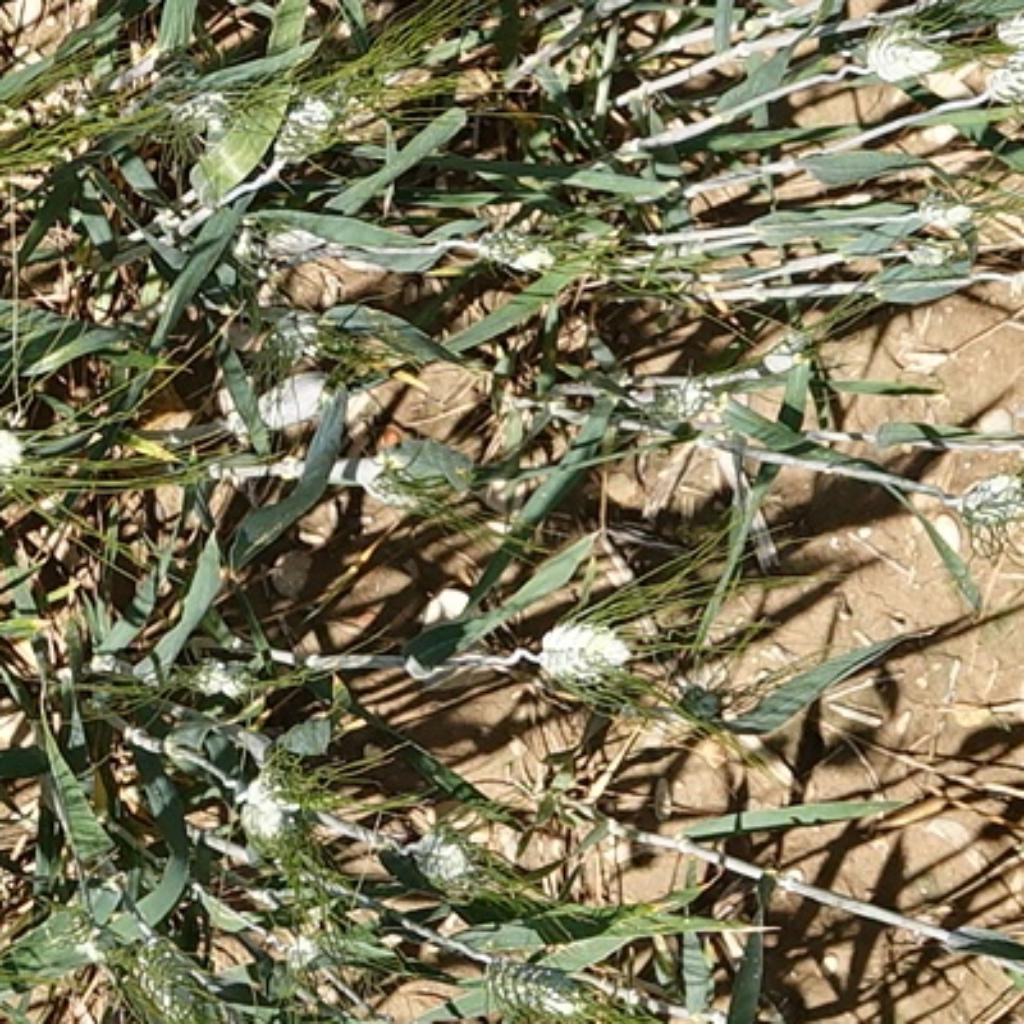0-0: (248, 303, 378, 410), (112, 919, 232, 1024), (258, 71, 384, 161), (391, 801, 506, 898), (481, 951, 624, 1024), (227, 768, 316, 884), (353, 430, 478, 512), (532, 613, 634, 686), (462, 214, 577, 278), (940, 462, 1024, 547), (170, 640, 277, 704), (851, 18, 947, 79), (156, 87, 250, 143), (903, 176, 985, 238), (0, 418, 49, 507), (977, 43, 1024, 120)
